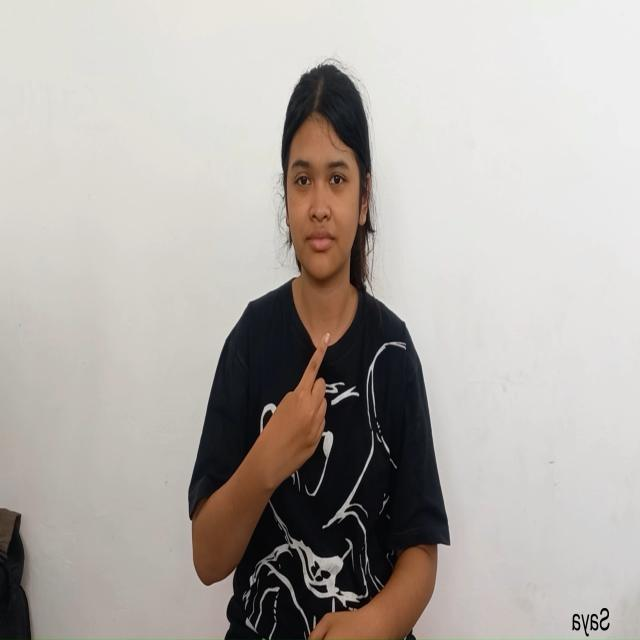Saya -BISINDO-: (187, 316, 334, 588)
